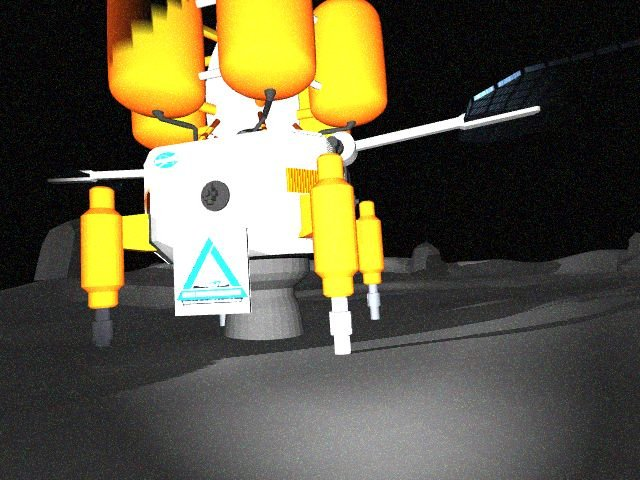basemarker: (177, 236, 248, 308)
